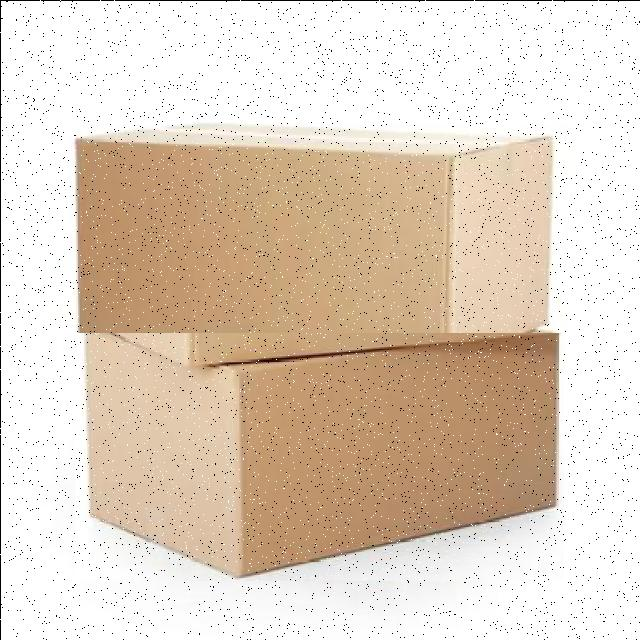normal: (68, 117, 557, 365), (74, 332, 563, 580)
